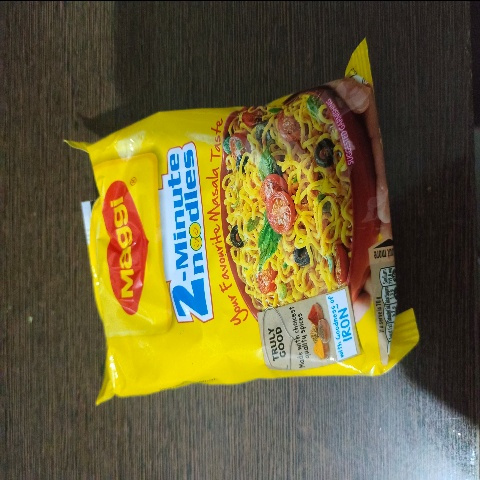maggi: (55, 46, 432, 415)
